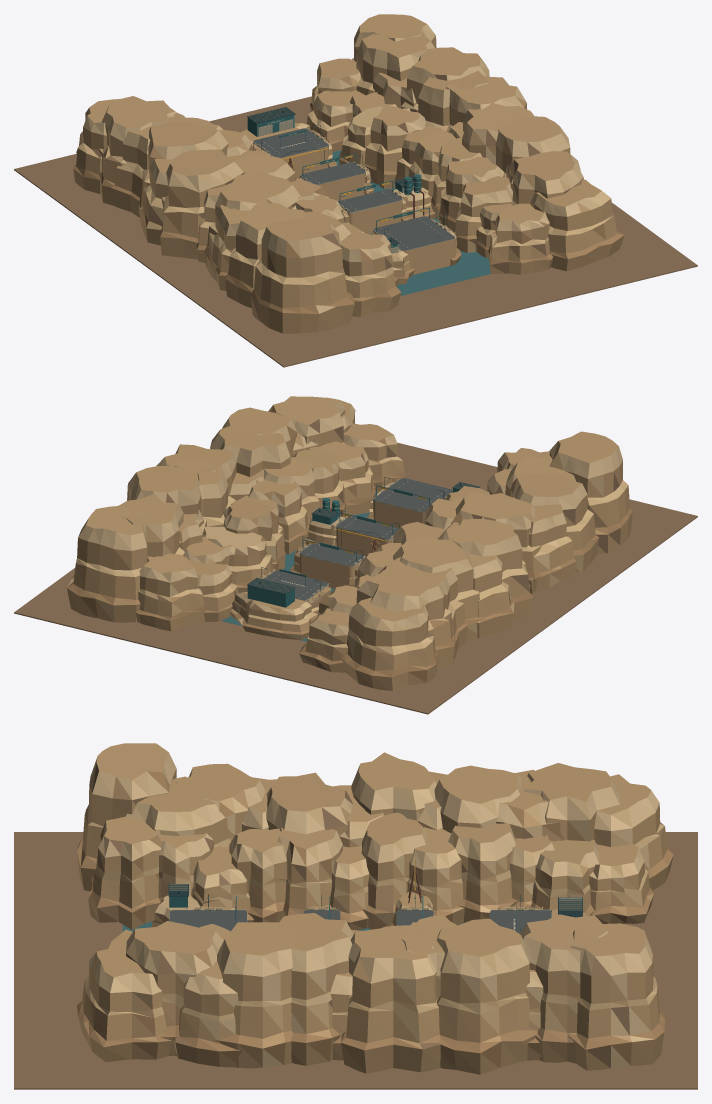
File: environment.glb
3 views of the same model, one above another, from view 1: azimuth 30°, elevation 25°; view 2: azimuth 150°, elevation 25°; view 3: azimuth 270°, elevation 25° (orthographic). The views are drawn at different scales.
Parts seen in each view (by area): view 1: Deep quarry basin, Distant rim, Distant rim.012, Distant rim.006, Outer quarry escarpment, Outer quarry escarpment.012, Distant rim.002, Distant rim.010, Distant rim.022, Outer quarry escarpment.019, Distant rim.013, Distant rim.015 (+36 smaller); view 2: Deep quarry basin, Distant rim.023, Distant rim.011, Distant rim, Outer quarry escarpment.023, Distant rim.010, Distant rim.002, Distant rim.006, Distant rim.008, Distant rim.003, Distant rim.004, Exit works (+36 smaller); view 3: Deep quarry basin, Distant rim.020, Distant rim.018, Distant rim.023, Distant rim.015, Distant rim.012, Distant rim.016, Distant rim.022, Outer quarry escarpment, Distant rim, Distant rim.013, Distant rim.014 (+29 smaller).
Boxes of the visible parts, <box> form: Deep quarry basin: <box>14,96,697,367</box>; Distant rim: <box>251,217,354,333</box>; Distant rim.012: <box>530,179,624,271</box>; Distant rim.006: <box>160,149,243,259</box>; Outer quarry escarpment: <box>340,231,401,316</box>; Outer quarry escarpment.012: <box>488,203,553,274</box>; Distant rim.002: <box>225,203,305,307</box>; Distant rim.010: <box>99,96,176,205</box>; Distant rim.022: <box>356,29,434,95</box>; Outer quarry escarpment.019: <box>363,106,426,188</box>; Distant rim.013: <box>509,151,583,205</box>; Distant rim.015: <box>495,116,570,177</box>; Deep quarry basin: <box>14,442,697,714</box>; Distant rim.023: <box>67,505,147,622</box>; Distant rim.011: <box>341,597,438,690</box>; Distant rim: <box>549,431,632,554</box>; Outer quarry escarpment.023: <box>135,553,205,631</box>; Distant rim.010: <box>356,567,456,668</box>; Distant rim.002: <box>510,473,599,572</box>; Distant rim.006: <box>437,519,532,620</box>; Distant rim.008: <box>393,536,484,641</box>; Distant rim.003: <box>513,497,576,593</box>; Distant rim.004: <box>451,492,541,592</box>; Exit works: <box>230,592,317,639</box>; Deep quarry basin: <box>14,832,697,1089</box>; Distant rim.020: <box>436,918,537,1074</box>; Distant rim.018: <box>341,925,440,1073</box>; Distant rim.023: <box>567,923,665,1070</box>; Distant rim.015: <box>215,922,298,1068</box>; Distant rim.012: <box>77,945,172,1062</box>; Distant rim.016: <box>277,913,353,1065</box>; Distant rim.022: <box>520,914,607,1063</box>; Outer quarry escarpment: <box>88,816,161,929</box>; Distant rim: <box>77,743,176,891</box>; Distant rim.013: <box>126,921,223,1056</box>; Distant rim.014: <box>173,942,242,1067</box>.
Size of the model in its own units: 390 by 82.59 by 440.
